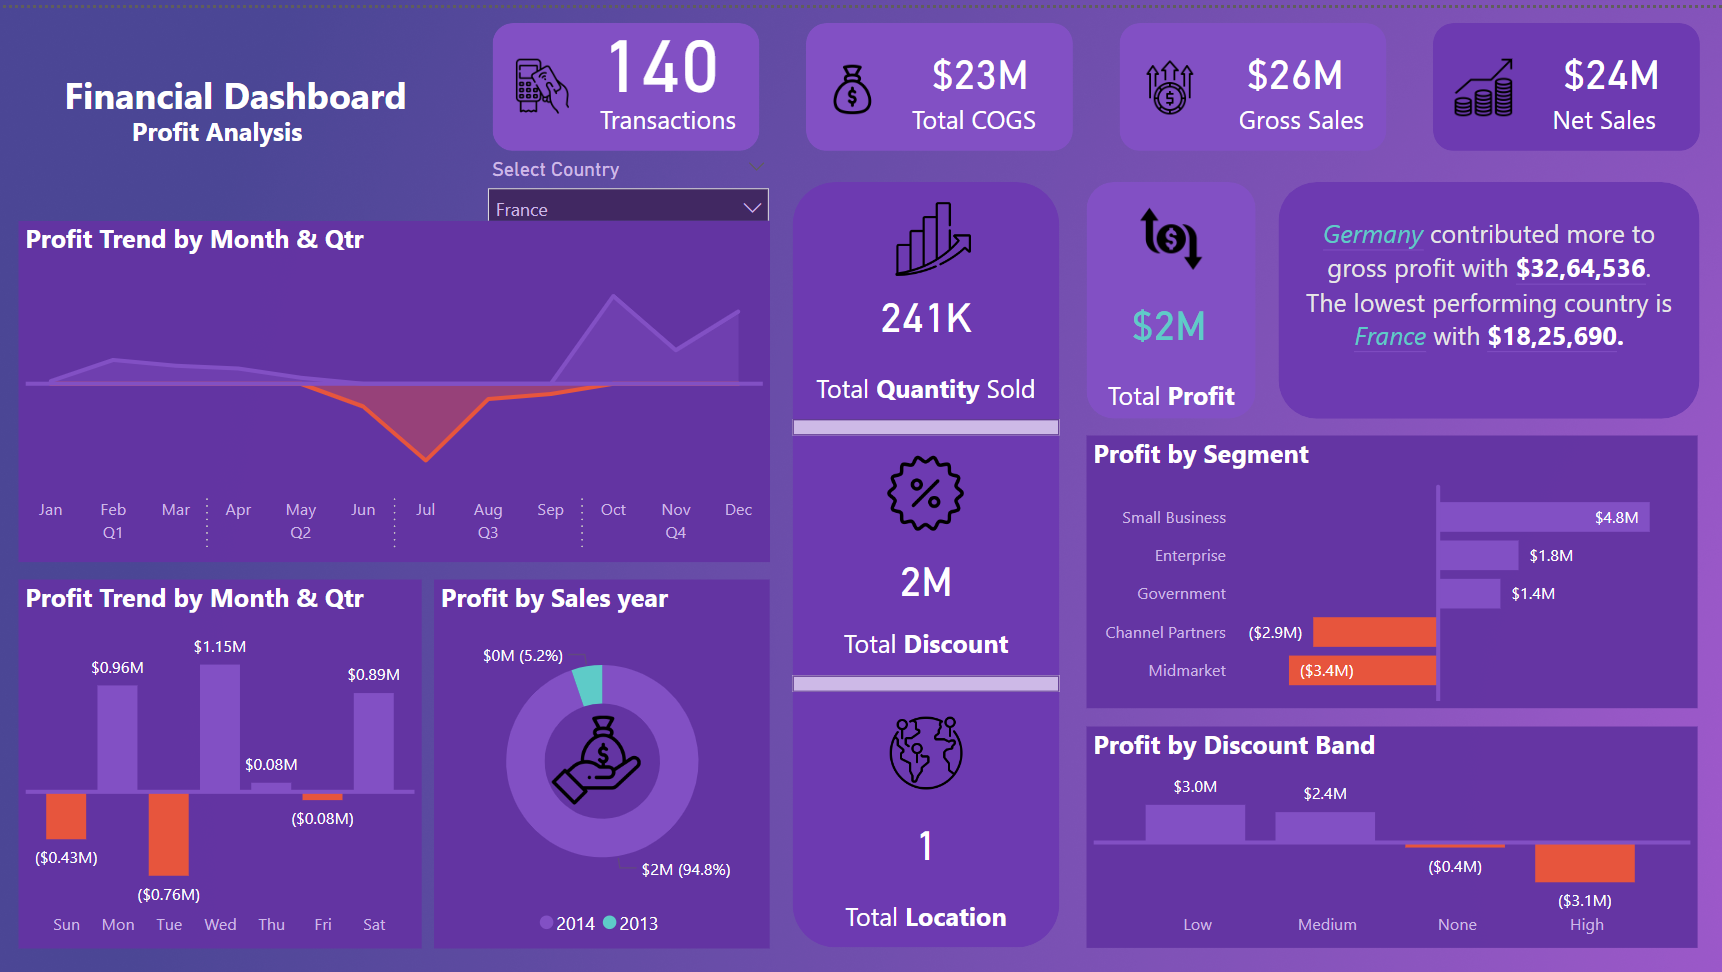

The dashboard page shown, as its layout file describes it:
{"tool":"powerbi","page":{"name":"Page 1","canvas":[1280,720],"ordinal":0},"visuals":[{"type":"shape","box":[365.9,11.2,197.7,94.8],"z":0},{"type":"card","fields":{"Values":["DAX Calculation.Transactions"]},"box":[430.1,0,119.2,72.4],"z":1000},{"type":"shape","box":[597.9,11.2,197.7,94.8],"z":2000},{"type":"shape","box":[829.9,11.2,197.7,94.8],"z":3000},{"type":"shape","box":[1061.9,11.2,197.7,94.8],"z":4000},{"type":"image","box":[365.9,32.6,74.4,51],"z":5000},{"type":"image","box":[598.2,36.7,68.3,46.9],"z":6000},{"type":"image","box":[829.6,32.6,74.4,53],"z":7000},{"type":"image","box":[1061.9,32.6,74.4,53],"z":8000},{"type":"textbox","box":[440.3,64.2,123.3,41.8],"z":9000},{"type":"card","fields":{"Values":["DAX Calculation.COGS"]},"box":[666.5,11.2,119.2,72.4],"z":10000},{"type":"card","fields":{"Values":["DAX Calculation.Gross Sales"]},"box":[900.4,11.2,119.2,72.4],"z":11000},{"type":"card","fields":{"Values":["DAX Calculation.Net Sales"]},"box":[1134.3,11.2,119.2,72.4],"z":12000},{"type":"textbox","box":[913.1,64.2,114.1,41.8],"z":13000},{"type":"textbox","box":[671.6,64.2,114.1,41.8],"z":14000},{"type":"textbox","box":[1145.5,64.2,114.1,41.8],"z":15000},{"type":"textbox","box":[42.8,40.8,275.2,57.1],"z":16000},{"type":"textbox","box":[93.8,73.4,269,57.1],"z":17000},{"type":"areaChart","title":"Profit Trend by Month & Qtr","fields":{"Category":["DateTable.Qtr","DateTable.Month"],"Y":["DAX Calculation.Profit Negative","DAX Calculation.Profit Positive"]},"box":[14.3,158,556.4,252.7],"z":18000},{"type":"columnChart","title":"Profit Trend by Month & Qtr","fields":{"Category":["DateTable.Weekday"],"Y":["DAX Calculation.Total Profit"]},"box":[14.3,422.9,298.6,273.1],"z":19000},{"type":"donutChart","title":"Profit by Sales year","fields":{"Category":["DateTable.Year"],"Y":["DAX Calculation.Total Profit"]},"box":[322,422.9,248.7,273.1],"z":20000},{"type":"shape","box":[588,129.4,197.7,567],"z":21000},{"type":"image","box":[650.2,257.8,72.4,202.8],"z":22000},{"type":"image","box":[654.3,458.6,64.2,186.5],"z":23000},{"type":"image","box":[656.3,137.6,70.3,66.2],"z":24000},{"type":"shape","box":[588,304.7,197.7,12.2],"z":25000},{"type":"shape","box":[588,494.3,197.7,12.2],"z":26000},{"type":"textbox","box":[588,262.9,197.7,41.8],"z":27000},{"type":"textbox","box":[588,452.5,197.7,41.8],"z":28000},{"type":"textbox","box":[588,654.3,197.7,41.8],"z":29000},{"type":"card","fields":{"Values":["Sum(financials.Units Sold)"]},"box":[626.8,190.6,119.2,72.4],"z":30000},{"type":"card","fields":{"Values":["DAX Calculation.Total Discount"]},"box":[626.8,386.2,119.2,72.4],"z":31000},{"type":"card","fields":{"Values":["Count(financials.Country)"]},"box":[626.8,581.9,119.2,72.4],"z":32000},{"type":"shape","box":[805.1,129.4,125.4,175.3],"z":33000},{"type":"image","box":[839.7,116.2,56.1,109],"z":34000},{"type":"textbox","box":[805.1,269,125.4,41.8],"z":35000},{"type":"card","fields":{"Values":["DAX Calculation.Total Profit"]},"box":[807.1,196.7,119.2,72.4],"z":36000},{"type":"shape","box":[947.8,129.4,311.8,175.3],"z":37000},{"type":"barChart","title":"Profit by Segment","fields":{"Category":["financials.Segment"],"Y":["DAX Calculation.Total Profit"]},"box":[805.1,316.9,452.5,201.8],"z":38000},{"type":"columnChart","title":"Profit by Discount Band","fields":{"Category":["financials.Discount Band"],"Y":["DAX Calculation.Total Profit"]},"box":[805.1,532,452.5,164.1],"z":39000},{"type":"slicer","fields":{"Values":["financials.Country"]},"box":[352.6,106,228.3,52],"z":39001},{"type":"image","box":[403.6,518.7,78.5,76.4],"z":39002},{"type":"textbox","box":[961,148.8,285.4,152.9],"z":39003}]}

Visuals, with their boxes in screenshot pixels (x1, y1, x2, y2), scaled from the page's 1280x720 canvas onto the 1722x972 screenshot:
shape: {"left": 492, "top": 15, "right": 758, "bottom": 143}
card - DAX Calculation.Transactions: {"left": 579, "top": 0, "right": 739, "bottom": 98}
shape: {"left": 804, "top": 15, "right": 1070, "bottom": 143}
shape: {"left": 1116, "top": 15, "right": 1382, "bottom": 143}
shape: {"left": 1429, "top": 15, "right": 1695, "bottom": 143}
image: {"left": 492, "top": 44, "right": 592, "bottom": 113}
image: {"left": 805, "top": 50, "right": 897, "bottom": 113}
image: {"left": 1116, "top": 44, "right": 1216, "bottom": 116}
image: {"left": 1429, "top": 44, "right": 1529, "bottom": 116}
textbox: {"left": 592, "top": 87, "right": 758, "bottom": 143}
card - DAX Calculation.COGS: {"left": 897, "top": 15, "right": 1057, "bottom": 113}
card - DAX Calculation.Gross Sales: {"left": 1211, "top": 15, "right": 1372, "bottom": 113}
card - DAX Calculation.Net Sales: {"left": 1526, "top": 15, "right": 1686, "bottom": 113}
textbox: {"left": 1228, "top": 87, "right": 1382, "bottom": 143}
textbox: {"left": 904, "top": 87, "right": 1057, "bottom": 143}
textbox: {"left": 1541, "top": 87, "right": 1695, "bottom": 143}
textbox: {"left": 58, "top": 55, "right": 428, "bottom": 132}
textbox: {"left": 126, "top": 99, "right": 488, "bottom": 176}
"Profit Trend by Month & Qtr" areaChart: {"left": 19, "top": 213, "right": 768, "bottom": 554}
"Profit Trend by Month & Qtr" columnChart: {"left": 19, "top": 571, "right": 421, "bottom": 940}
"Profit by Sales year" donutChart: {"left": 433, "top": 571, "right": 768, "bottom": 940}
shape: {"left": 791, "top": 175, "right": 1057, "bottom": 940}
image: {"left": 875, "top": 348, "right": 972, "bottom": 622}
image: {"left": 880, "top": 619, "right": 967, "bottom": 871}
image: {"left": 883, "top": 186, "right": 978, "bottom": 275}
shape: {"left": 791, "top": 411, "right": 1057, "bottom": 428}
shape: {"left": 791, "top": 667, "right": 1057, "bottom": 684}
textbox: {"left": 791, "top": 355, "right": 1057, "bottom": 411}
textbox: {"left": 791, "top": 611, "right": 1057, "bottom": 667}
textbox: {"left": 791, "top": 883, "right": 1057, "bottom": 940}
card - Sum(financials.Units Sold): {"left": 843, "top": 257, "right": 1004, "bottom": 355}
card - DAX Calculation.Total Discount: {"left": 843, "top": 521, "right": 1004, "bottom": 619}
card - Count(financials.Country): {"left": 843, "top": 786, "right": 1004, "bottom": 883}
shape: {"left": 1083, "top": 175, "right": 1252, "bottom": 411}
image: {"left": 1130, "top": 157, "right": 1205, "bottom": 304}
textbox: {"left": 1083, "top": 363, "right": 1252, "bottom": 420}
card - DAX Calculation.Total Profit: {"left": 1086, "top": 266, "right": 1246, "bottom": 363}
shape: {"left": 1275, "top": 175, "right": 1695, "bottom": 411}
"Profit by Segment" barChart: {"left": 1083, "top": 428, "right": 1692, "bottom": 700}
"Profit by Discount Band" columnChart: {"left": 1083, "top": 718, "right": 1692, "bottom": 940}
slicer - financials.Country: {"left": 474, "top": 143, "right": 781, "bottom": 213}
image: {"left": 543, "top": 700, "right": 649, "bottom": 803}
textbox: {"left": 1293, "top": 201, "right": 1677, "bottom": 407}
